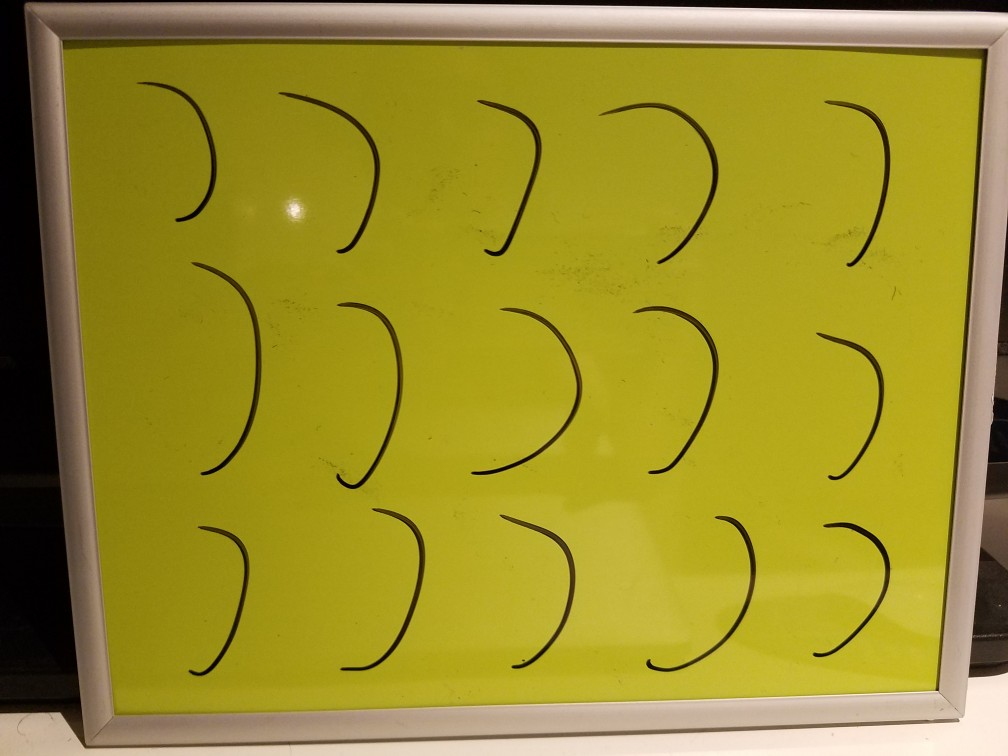): (595, 83, 739, 266), (458, 292, 581, 486), (174, 253, 274, 485), (636, 503, 762, 681), (789, 307, 894, 499), (812, 88, 917, 270), (627, 292, 727, 483), (281, 77, 387, 256), (487, 498, 585, 677), (334, 503, 430, 682), (450, 80, 542, 263), (133, 68, 233, 232), (168, 513, 257, 694), (326, 281, 400, 495), (807, 511, 895, 663)
